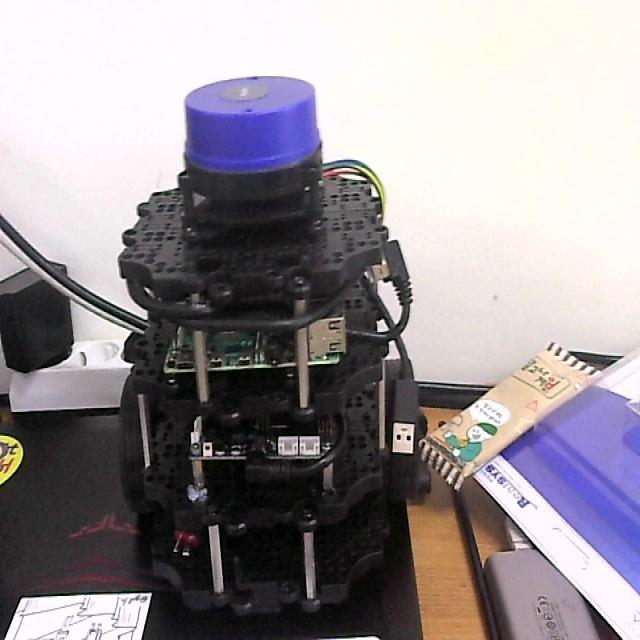turtle: (115, 74, 419, 620)
